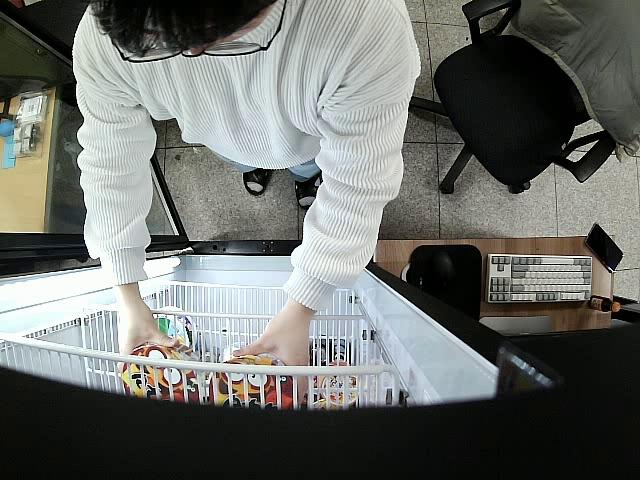00_hand: (233, 314, 309, 408), (115, 299, 180, 370)
05_nuguri_L: (117, 339, 206, 404), (209, 354, 297, 413)
